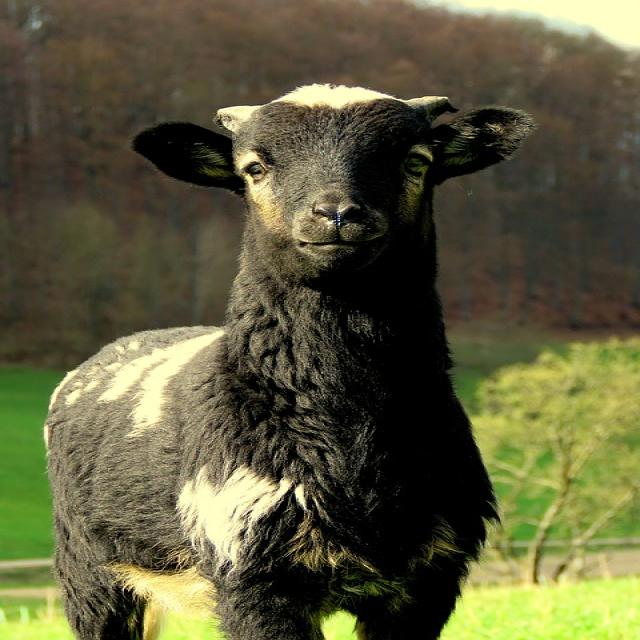goat: (43, 85, 533, 640)
